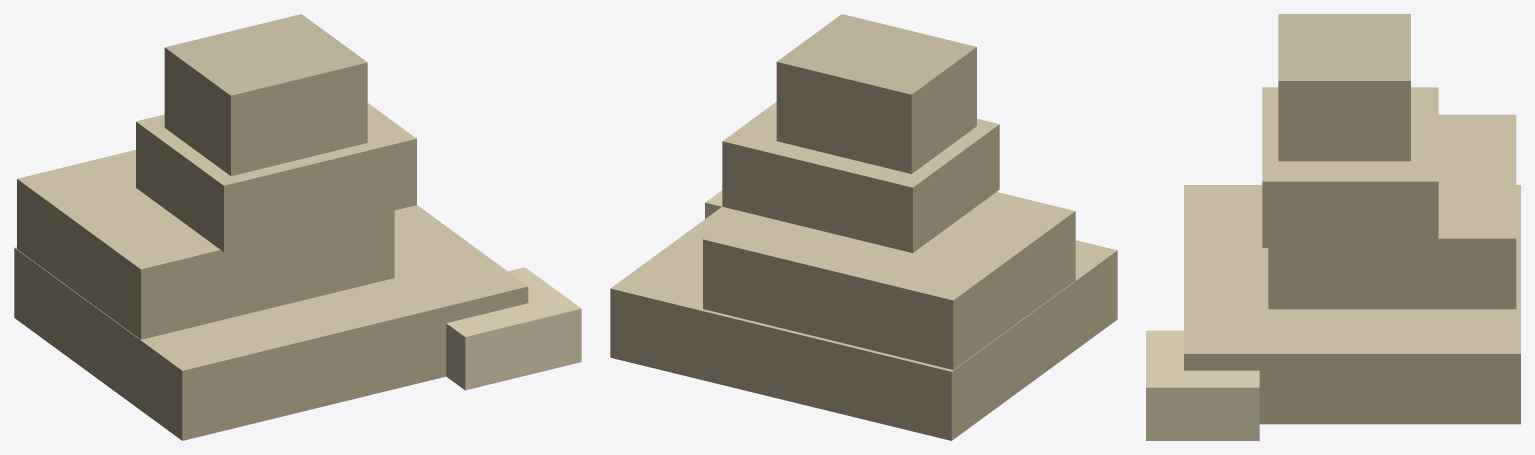
The model's file is limestone_b.glb.
3 views of the same model, side by side, from view 1: azimuth 30°, elevation 25°; view 2: azimuth 150°, elevation 25°; view 3: azimuth 270°, elevation 25° (orthographic).
Visible parts, largest first — view 1: limestone_b; view 2: limestone_b; view 3: limestone_b.
Part boxes in pixels (bbox=[...]): limestone_b: bbox=[14, 14, 581, 440]; limestone_b: bbox=[610, 14, 1117, 440]; limestone_b: bbox=[1146, 14, 1520, 440].
Bounding box in the file's own units: 1.04 × 0.7541 × 0.8901.
